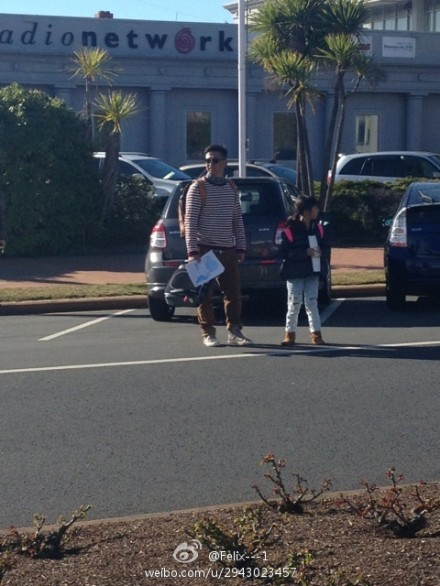other: (177, 135, 266, 358), (270, 188, 346, 349)
